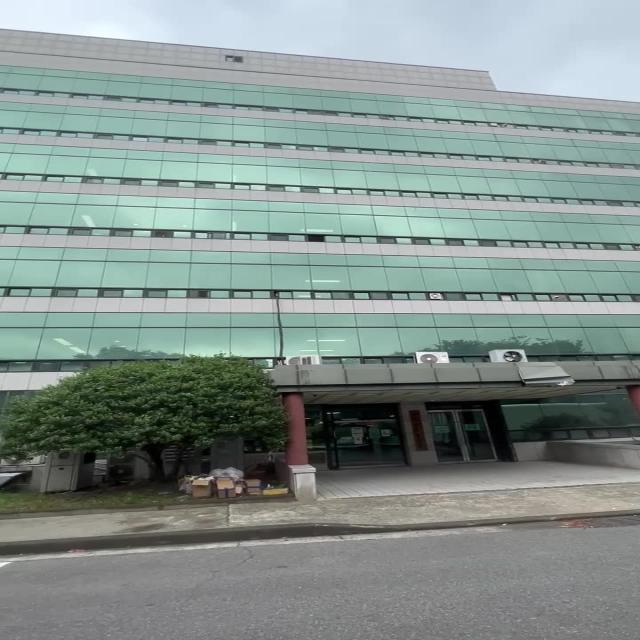building: (0, 28, 551, 339)
